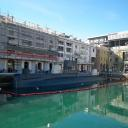submarine: (12, 62, 107, 90)
